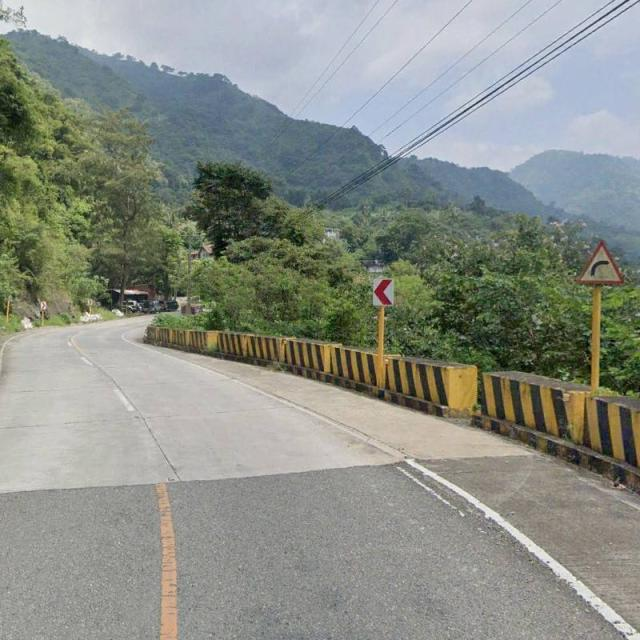warn_right_curve: (575, 240, 625, 284)
